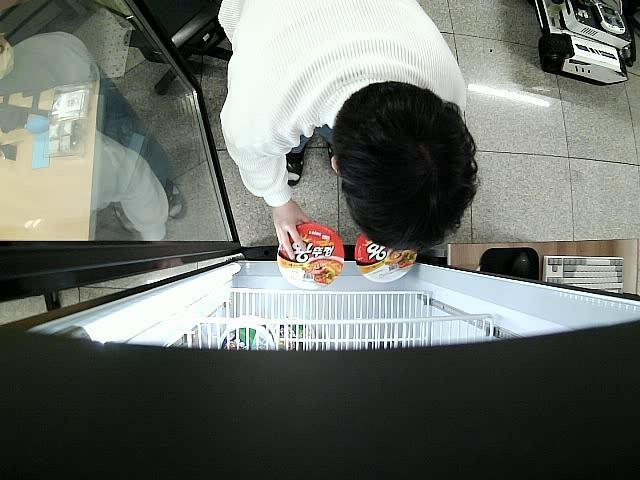10_wangTtukkeong: (278, 222, 344, 290)
